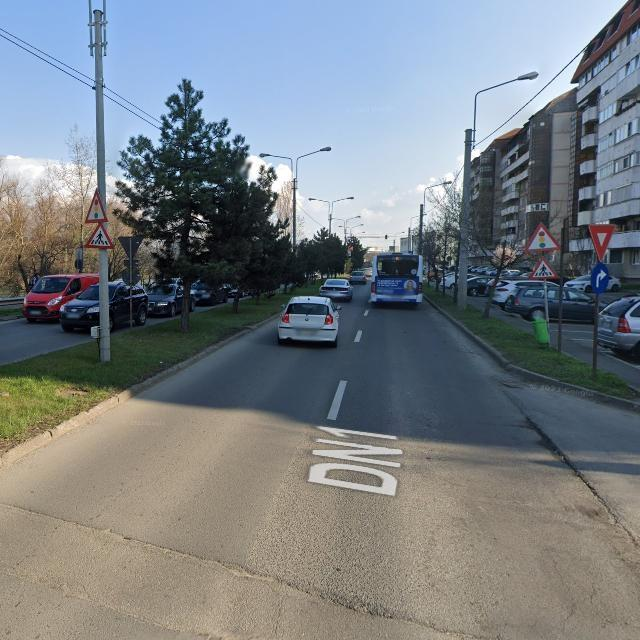prio_give_way: (588, 224, 617, 263)
warn_crosswalk: (87, 223, 115, 249), (530, 255, 558, 279)
